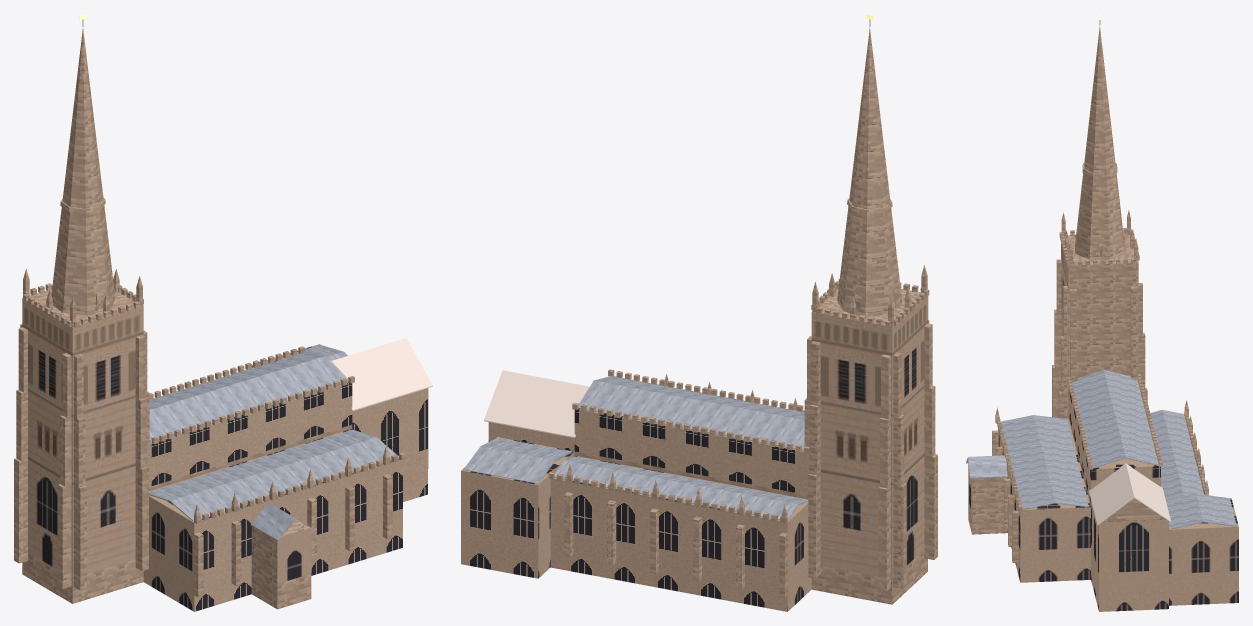
The model's file is st_johns.glb.
3 views of the same model, side by side, from view 1: azimuth 30°, elevation 25°; view 2: azimuth 150°, elevation 25°; view 3: azimuth 270°, elevation 25° (orthographic). The views are drawn at different scales.
Visible parts, largest first — view 1: Nave, NaveRoof, SouthAisle, TowerSouth, TowerWest, Clerestory, Chancel, ChancelRoof, PorchFront; view 2: Nave, SouthAisle, TowerSouth, NaveRoof, Clerestory, TowerWest, ChancelRoof, Chancel; view 3: Nave, NaveRoof, SouthAisle, EastWindow, ChancelRoof, Chancel, Clerestory, TowerSouth.
Boxes of the visible parts, x1,y1,x2,y2 form: Nave: (14, 28, 405, 609); NaveRoof: (149, 345, 398, 541); SouthAisle: (143, 344, 402, 611); TowerSouth: (72, 305, 143, 578); TowerWest: (22, 298, 72, 577); Clerestory: (147, 353, 352, 486); Chancel: (352, 388, 427, 501); ChancelRoof: (331, 338, 432, 410); PorchFront: (277, 528, 311, 583); Nave: (548, 28, 937, 604); SouthAisle: (461, 437, 811, 611); TowerSouth: (811, 312, 892, 578); NaveRoof: (463, 376, 808, 520); Clerestory: (574, 376, 809, 494); TowerWest: (892, 296, 928, 578); ChancelRoof: (484, 370, 589, 437); Chancel: (488, 422, 574, 451); Nave: (968, 25, 1208, 562); NaveRoof: (966, 370, 1236, 529); SouthAisle: (998, 414, 1238, 605); EastWindow: (1099, 519, 1168, 591); ChancelRoof: (1089, 463, 1171, 525); Chancel: (1091, 500, 1168, 611); Clerestory: (1068, 381, 1160, 502); TowerSouth: (1061, 241, 1068, 418).
Size of the model in its own units: 49.29 by 66.4 by 35.72.
Materials: 16 (9 with a texture image).
